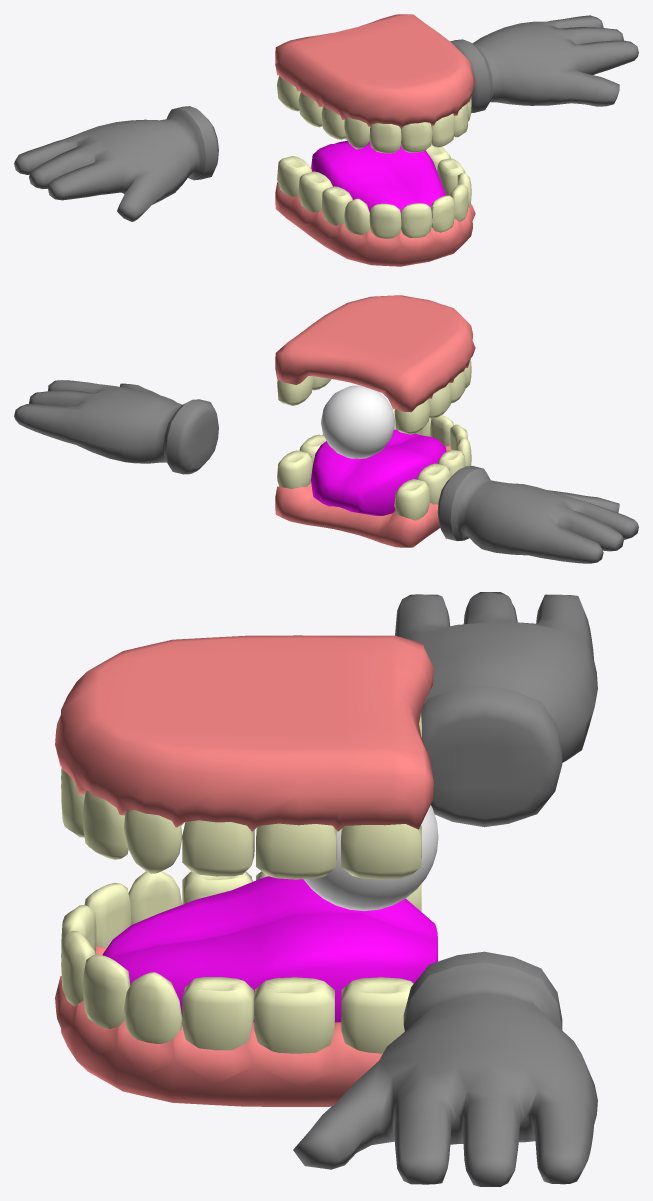
Rendered from boss_main_model.fbx.
3 renders of one model, top to bottom at view 1: azimuth 30°, elevation 25°; view 2: azimuth 150°, elevation 25°; view 3: azimuth 270°, elevation 25°, orthographic. The views are drawn at different scales.
Visible parts, largest first — view 1: hand, haguki, tooth, tongue; view 2: hand, haguki, tooth, tongue, eye; view 3: haguki, hand, tooth, tongue, eye.
Part boxes in pixels (x1,y1,x2,y2): hand: [14, 15, 638, 221]; haguki: [275, 14, 475, 266]; tooth: [277, 75, 471, 238]; tongue: [311, 140, 445, 212]; hand: [14, 380, 638, 563]; haguki: [275, 295, 475, 547]; tooth: [277, 358, 471, 520]; tongue: [311, 429, 446, 515]; eye: [321, 385, 394, 458]; haguki: [55, 635, 433, 1106]; hand: [293, 592, 597, 1186]; tooth: [61, 712, 421, 1053]; tongue: [102, 876, 437, 1022]; eye: [304, 805, 438, 911].
Size of the model in its own units: 76.48 by 22.13 by 30.65.
